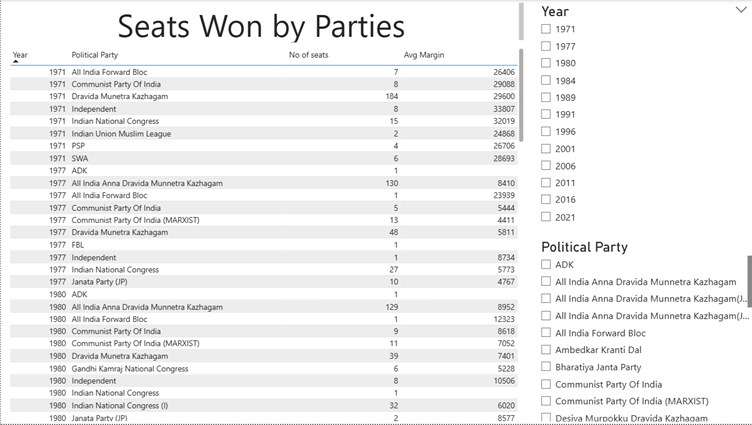

The page's visual inventory and layout, read from the dashboard file:
{"tool":"powerbi","page":{"name":"Seats Won","canvas":[1280,720],"ordinal":2},"visuals":[{"type":"tableEx","fields":{"Values":["WonDim.year","WonDim.party","WonDim.No of seats","WonDim.Avg Margin"]},"box":[9.6,76.8,883.7,643.6],"z":0},{"type":"slicer","fields":{"Values":["WonDim.year"]},"box":[904.3,0,376,391.1],"z":1000},{"type":"slicer","fields":{"Values":["WonDim.party"]},"box":[904.3,399.3,376,321.1],"z":2000},{"type":"textbox","box":[0,0,893.3,76.8],"z":3000}]}

Visuals, with their boxes in screenshot pixels (x1, y1, x2, y2), scaled from the page's 1280x720 canvas onto the 752x425 screenshot:
tableEx - WonDim.year x WonDim.party: left=6, top=45, right=525, bottom=424
slicer - WonDim.year: left=531, top=0, right=751, bottom=231
slicer - WonDim.party: left=531, top=236, right=751, bottom=424
textbox: left=0, top=0, right=525, bottom=45
